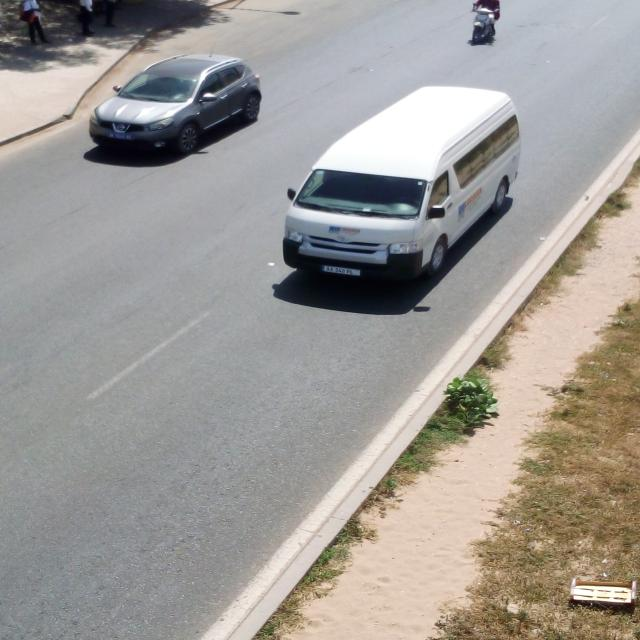fourgon: (284, 87, 521, 280)
moto: (473, 9, 494, 46)
particulier: (89, 56, 263, 155)
